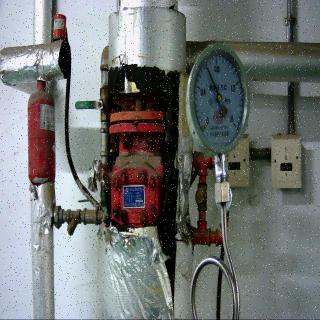gauge: (185, 40, 251, 156), (198, 117, 212, 135), (229, 115, 239, 130), (215, 93, 224, 103), (203, 61, 210, 69)
